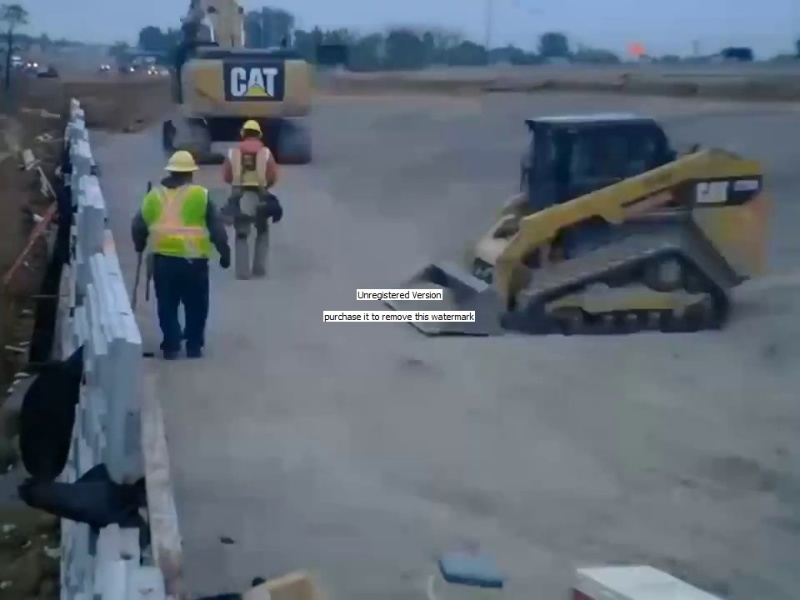bulldozer: (383, 111, 772, 336)
excavator: (160, 1, 314, 167)
hardhat: (162, 150, 199, 172), (240, 119, 264, 137)
person: (130, 149, 233, 363), (222, 119, 280, 282)
wall: (57, 97, 178, 600)
